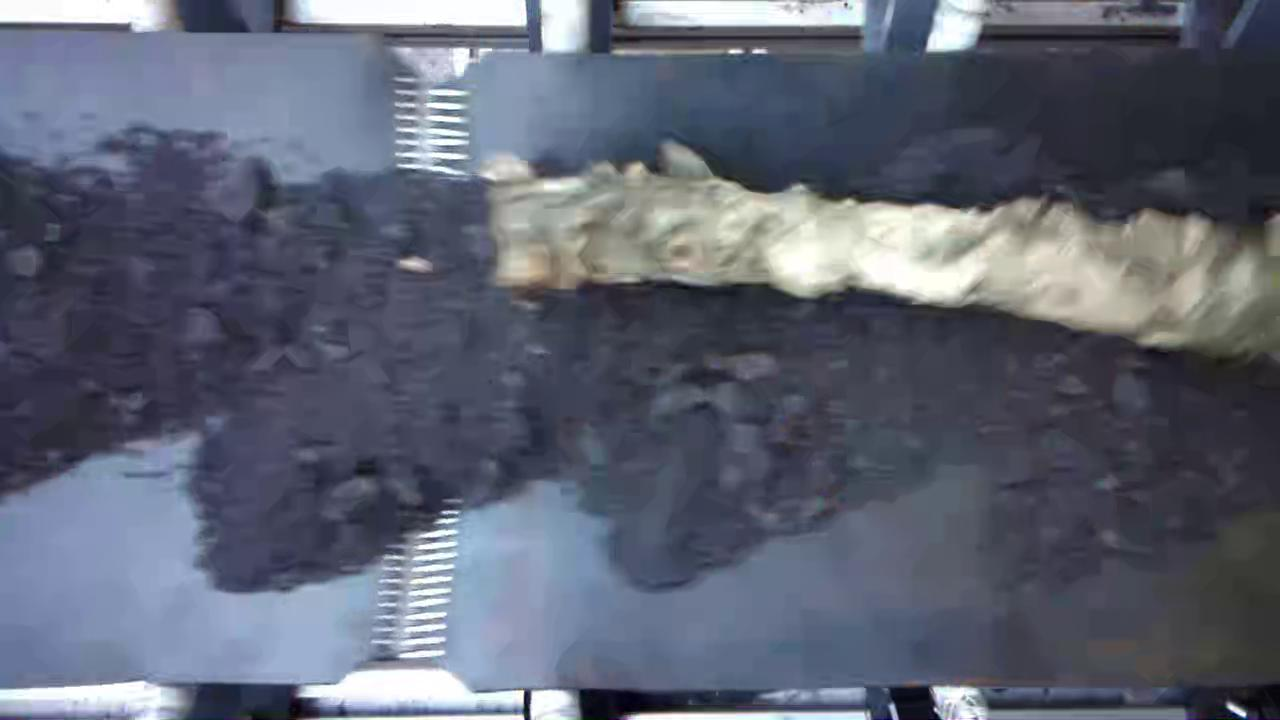conveyor: (3, 58, 1280, 676)
